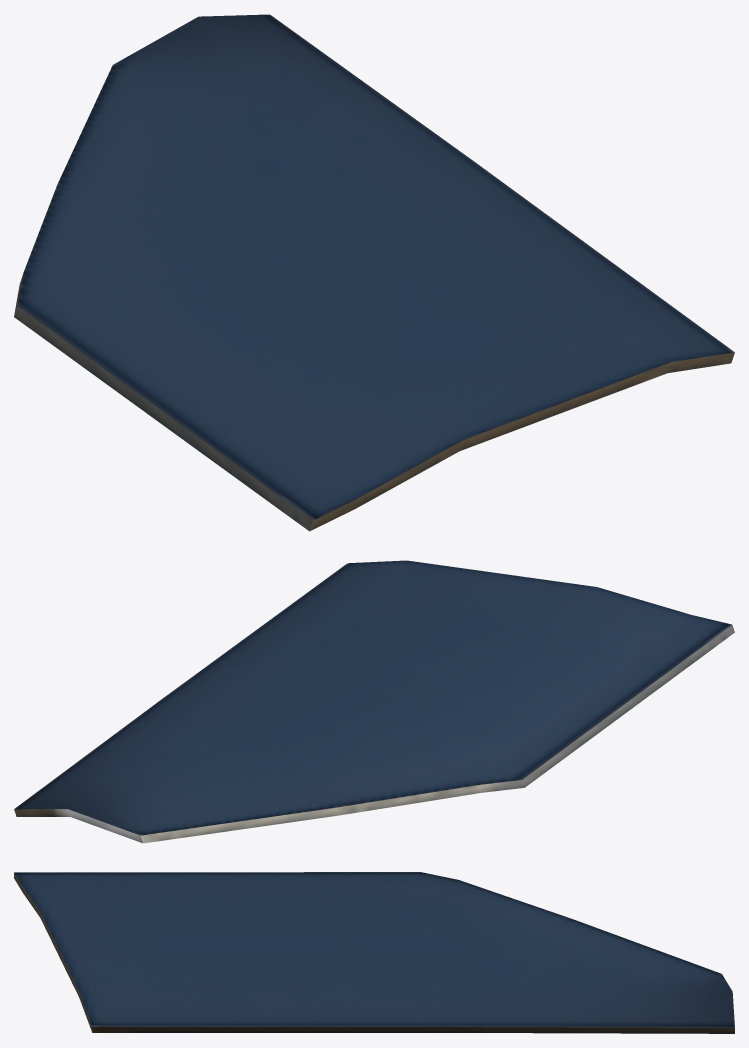
Rendered from CavalierFrontWindow_WorldItem.fbx.
The picture shows the model from 3 angles, top to bottom: view 1: azimuth 30°, elevation 25°; view 2: azimuth 150°, elevation 25°; view 3: azimuth 270°, elevation 25°; orthographic projection. The views are drawn at different scales.
Visible parts, largest first — view 1: FrontRightWindow_obj; view 2: FrontRightWindow_obj; view 3: FrontRightWindow_obj.
Part boxes in pixels (<box>): FrontRightWindow_obj: <box>14,14,734,531</box>; FrontRightWindow_obj: <box>14,560,734,843</box>; FrontRightWindow_obj: <box>14,872,734,1033</box>.
Size of the model in its own units: 0.5606 by 0.0394 by 1.05.
